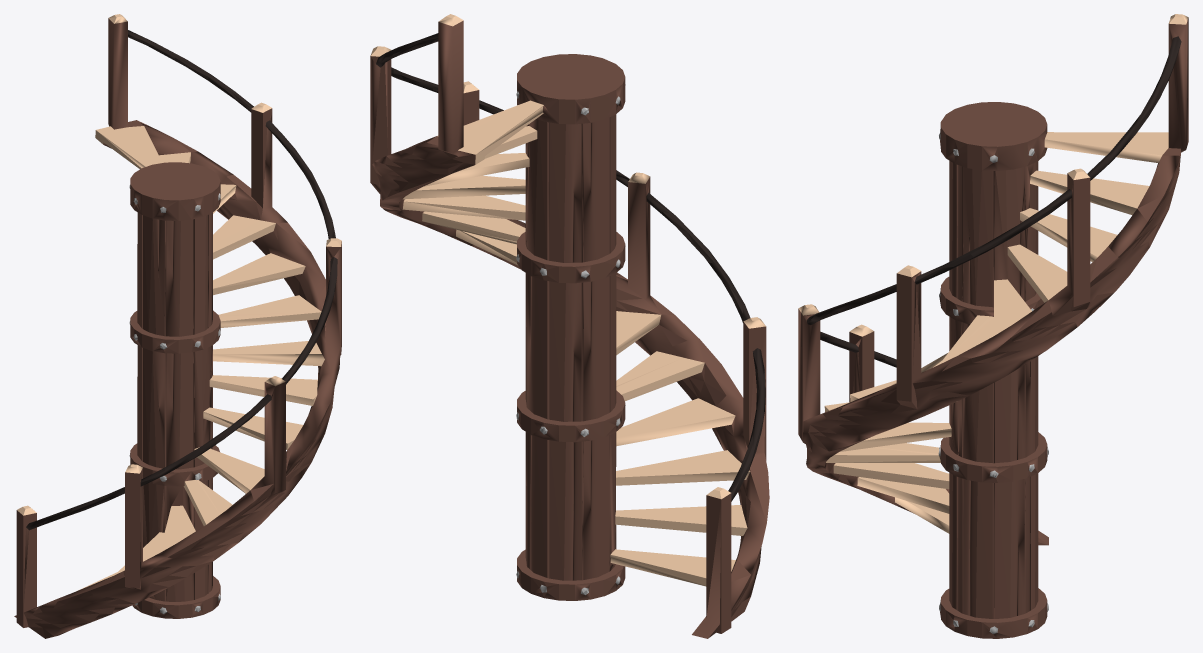
The model's file is staircase.glb.
3 renders of one model, left to right at view 1: azimuth 30°, elevation 25°; view 2: azimuth 150°, elevation 25°; view 3: azimuth 270°, elevation 25°, orthographic. The views are drawn at different scales.
Visible parts, largest first — view 1: staircase; view 2: staircase; view 3: staircase.
Boxes of the visible parts, x1,y1,x2,y2 form: staircase: (14,14,341,638); staircase: (370,14,769,638); staircase: (798,14,1188,638).
Bounding box in the file's own units: 0.7958 × 1.38 × 0.7983.
